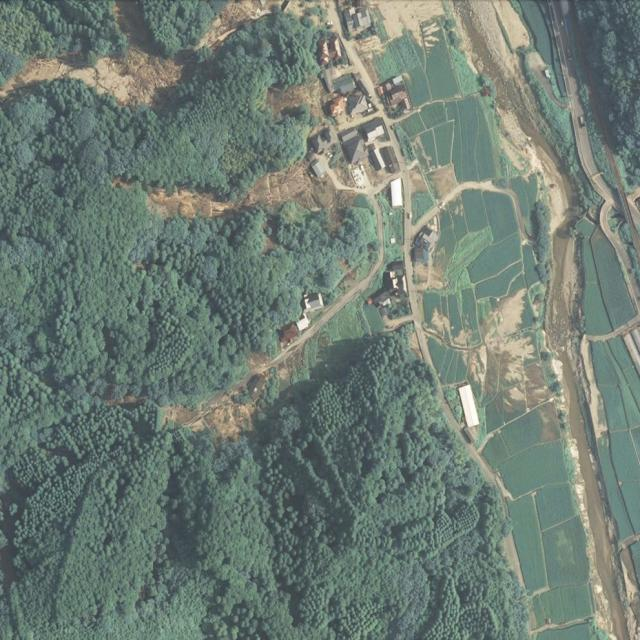landslide: (451, 1, 579, 354), (163, 247, 385, 439), (0, 1, 182, 106), (149, 161, 314, 219), (582, 481, 632, 638), (512, 538, 561, 638), (267, 78, 322, 117)
